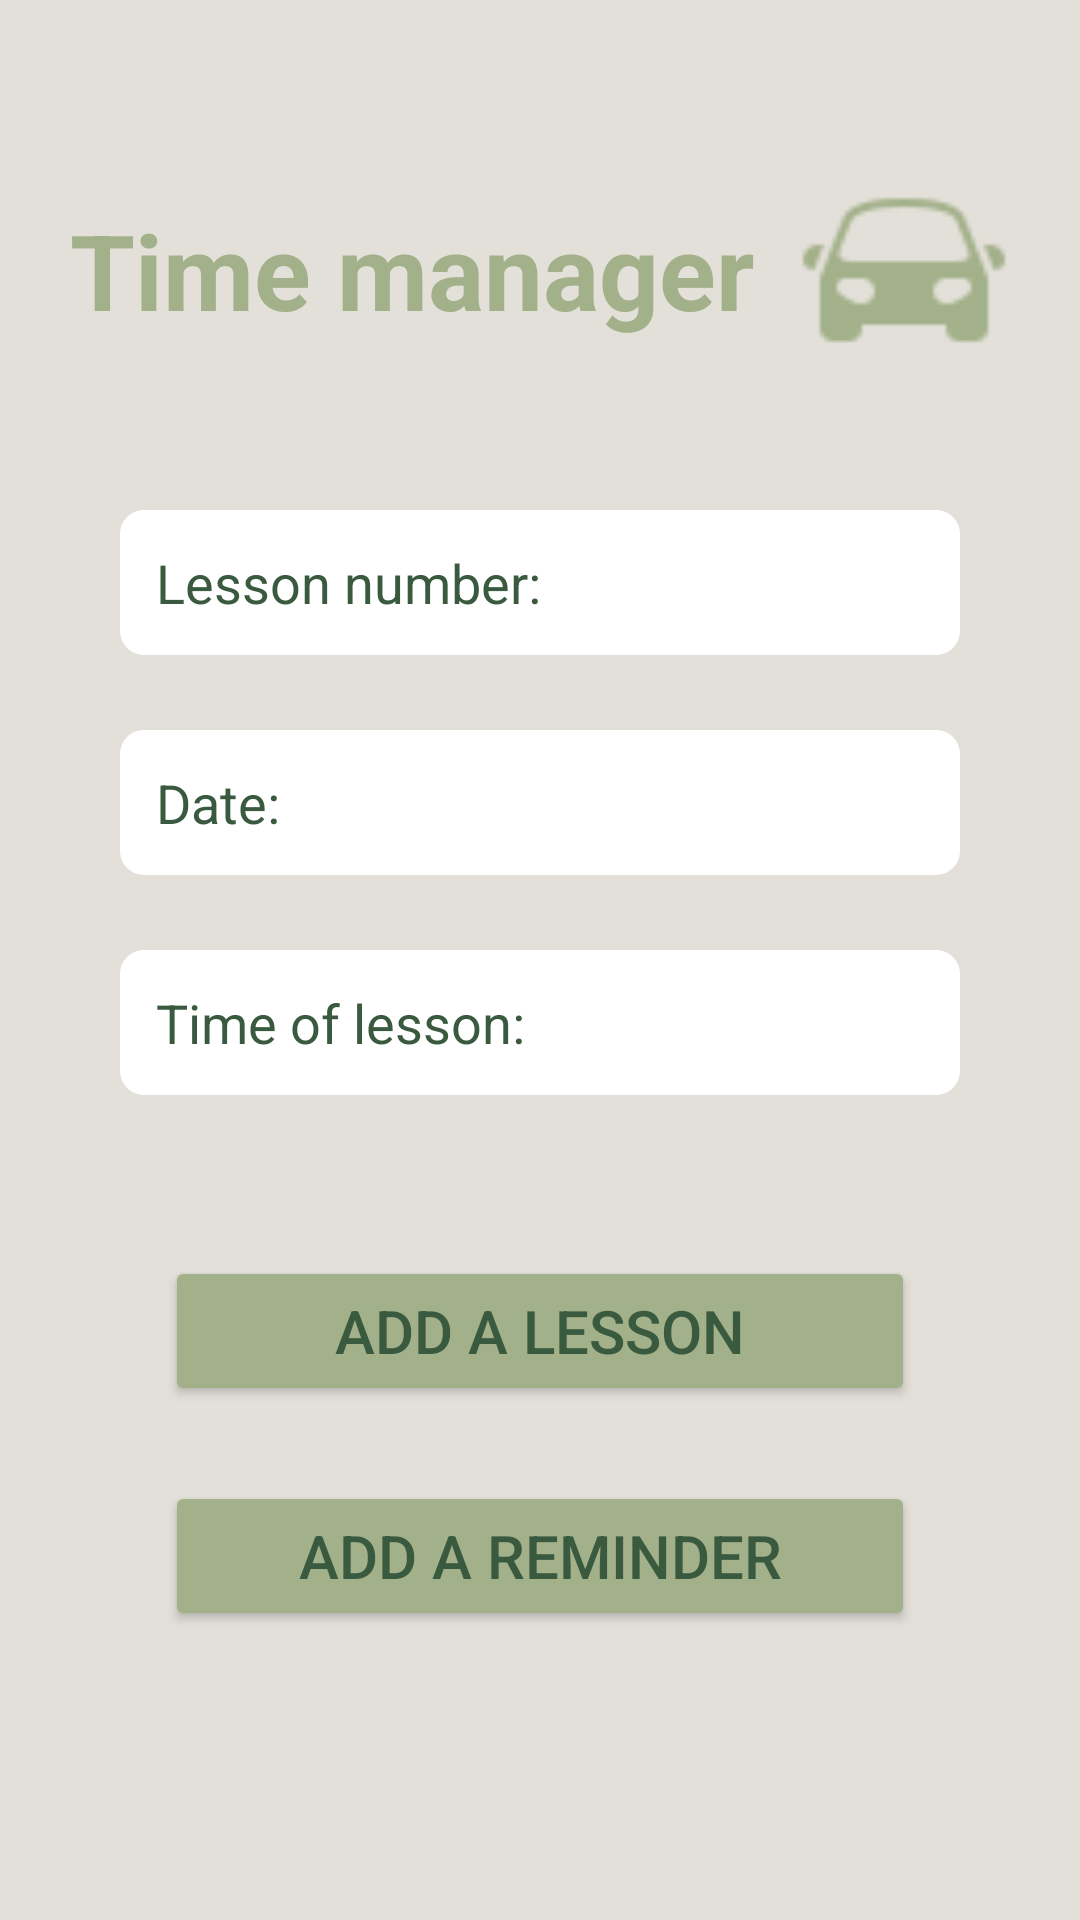

Where to tap for icons on this 1080x1920 app screen, as point (x, y):
car: point (904, 270)
